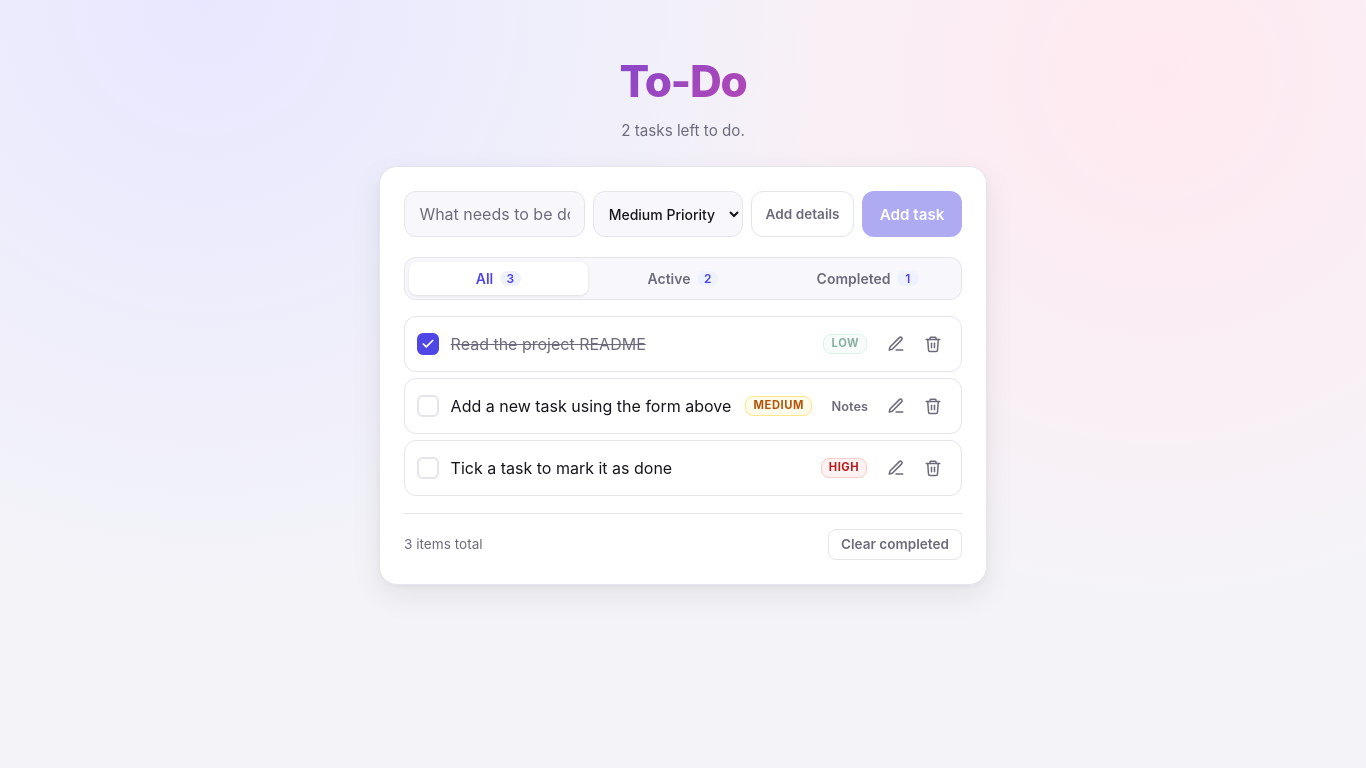
Test case: To-do app › deletes a task and shows undo toast
Step 1. Click the button named "Delete task: Read the project README" → point(933, 344), box [916,328,949,361]
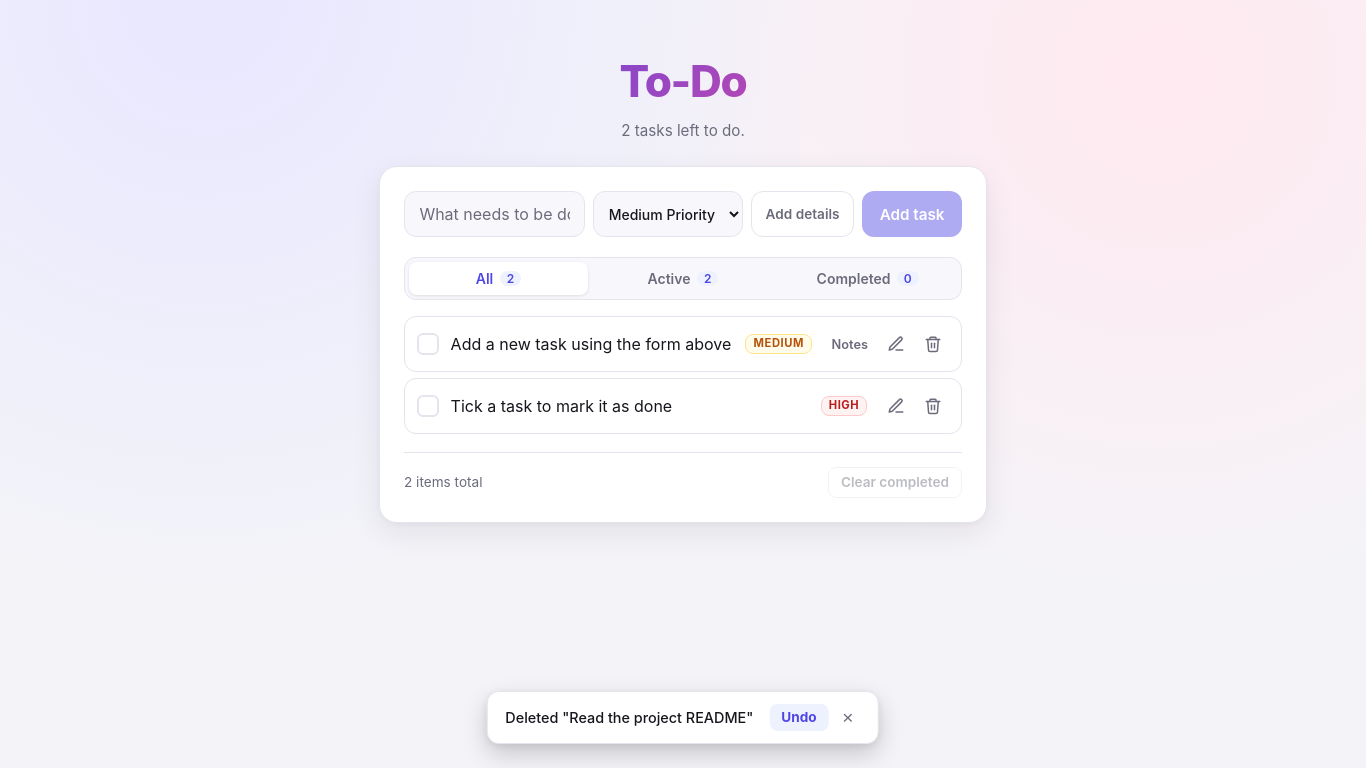
Expected: the text "2 items total" is shown, [404,472,482,492]
Expected: the message "Deleted \"Read the project README\" Undo ×" is shown, [487,691,879,744]
Expected: the text "Deleted \"Read the project README\"" is shown, [505,707,753,728]
